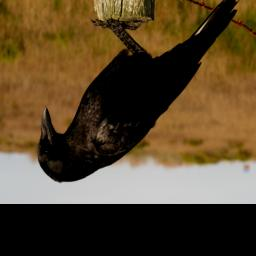Crow: (37, 0, 241, 183)
